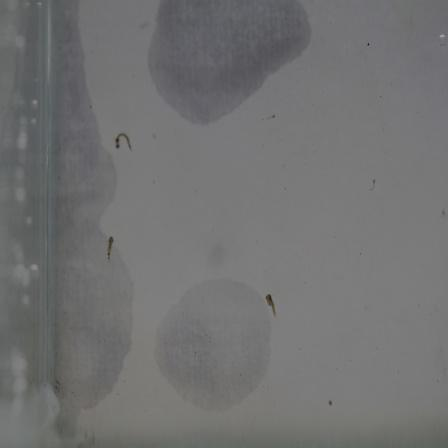Jentik-Nyamuk: (110, 126, 137, 159), (264, 288, 280, 323), (101, 234, 119, 264)
